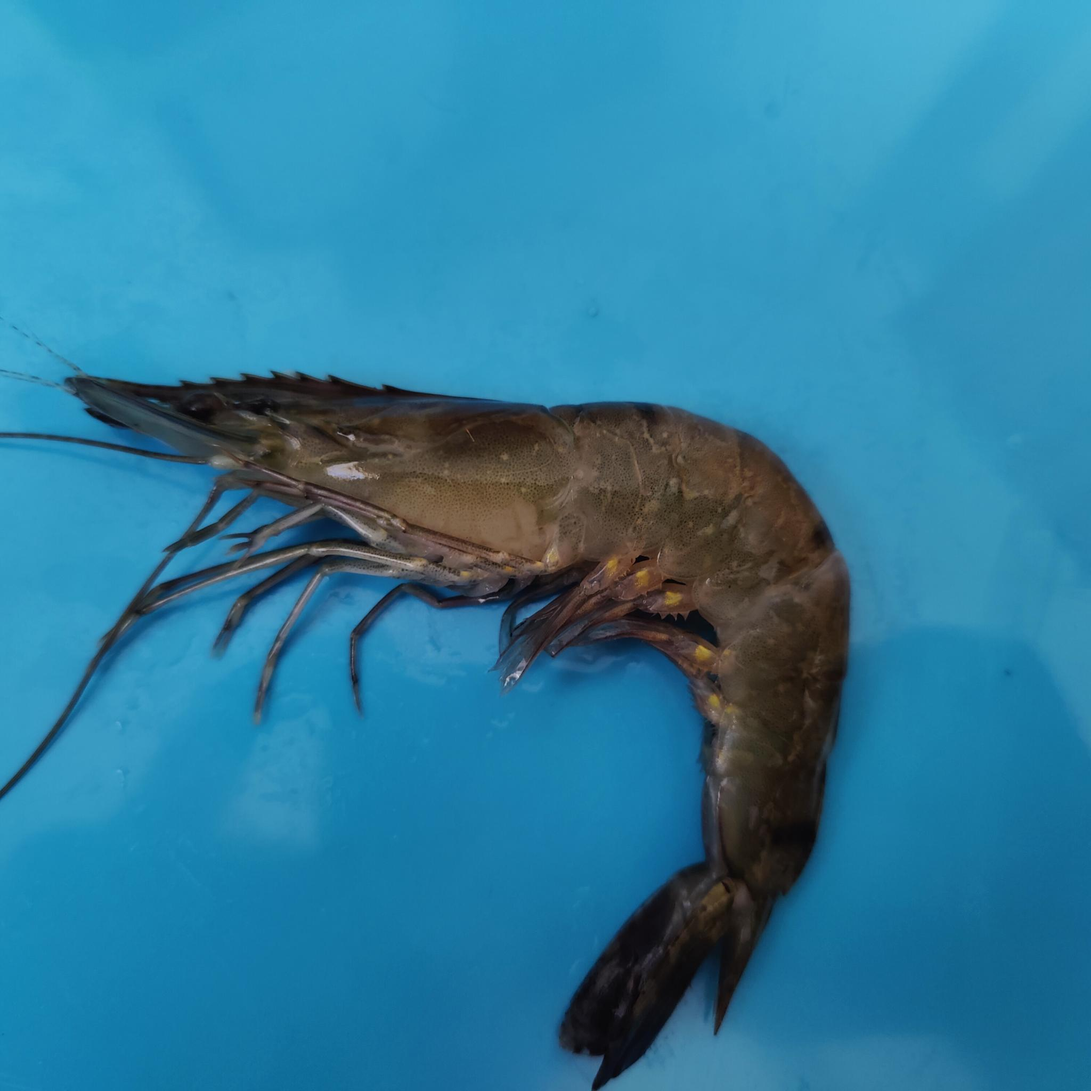whitespot: (614, 405, 833, 683), (388, 409, 630, 518)
